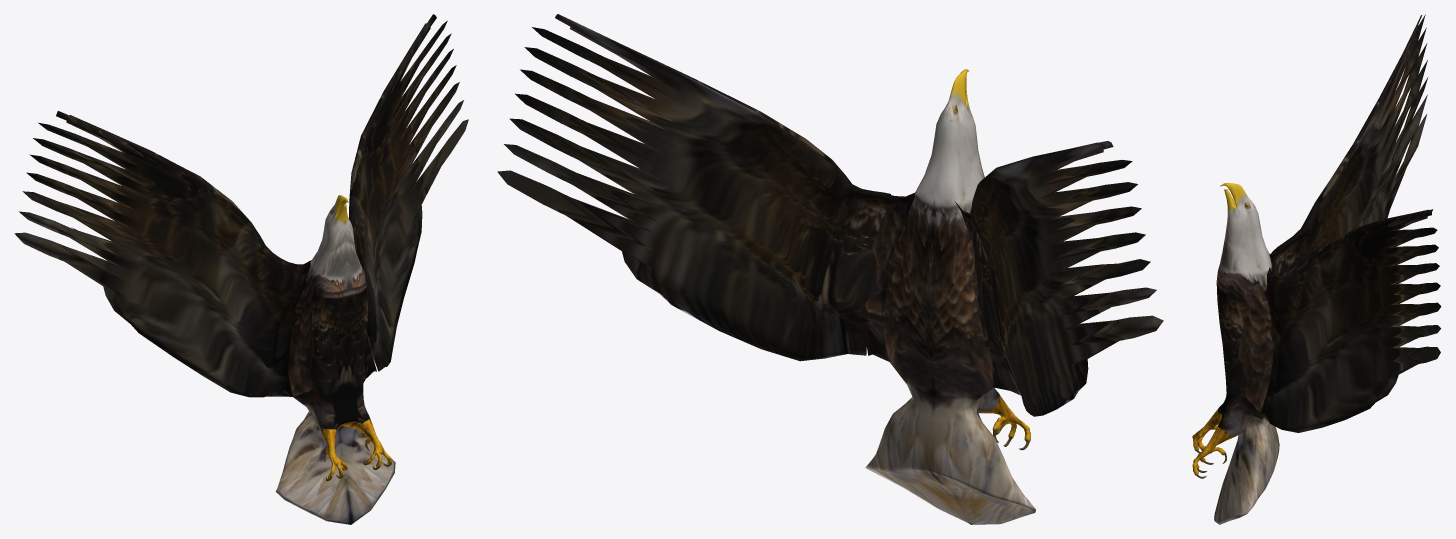
3 views of the same model, side by side, from view 1: azimuth 30°, elevation 25°; view 2: azimuth 150°, elevation 25°; view 3: azimuth 270°, elevation 25° (orthographic). The views are drawn at different scales.
Parts seen in each view (by area): view 1: Flugel.002_Plane.002, Flugel_Plane.003, Flugel.001_Plane.001; view 2: Flugel.001_Plane.001, Flugel_Plane.003, Flugel.002_Plane.002; view 3: Flugel.001_Plane.001, Flugel_Plane.003, Flugel.002_Plane.002.
Part boxes in pixels (<box>): Flugel.002_Plane.002: <box>14,111,303,397</box>; Flugel_Plane.003: <box>71,195,395,524</box>; Flugel.001_Plane.001: <box>349,14,468,371</box>; Flugel.001_Plane.001: <box>497,14,890,361</box>; Flugel_Plane.003: <box>863,69,1107,524</box>; Flugel.002_Plane.002: <box>961,141,1163,416</box>; Flugel.001_Plane.001: <box>1264,209,1441,432</box>; Flugel_Plane.003: <box>1192,141,1406,524</box>; Flugel.002_Plane.002: <box>1270,14,1427,278</box>.
Bounding box in the file's own units: 9.06 × 7.3 × 4.05.
Materials: 1 (1 with a texture image).
